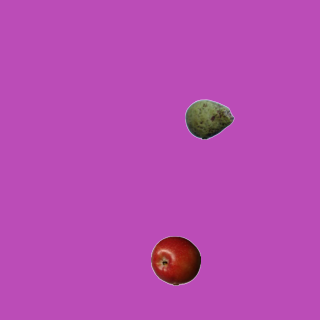Apple Braeburn: (150, 235, 200, 285)
Pear Stone: (184, 94, 234, 144)
